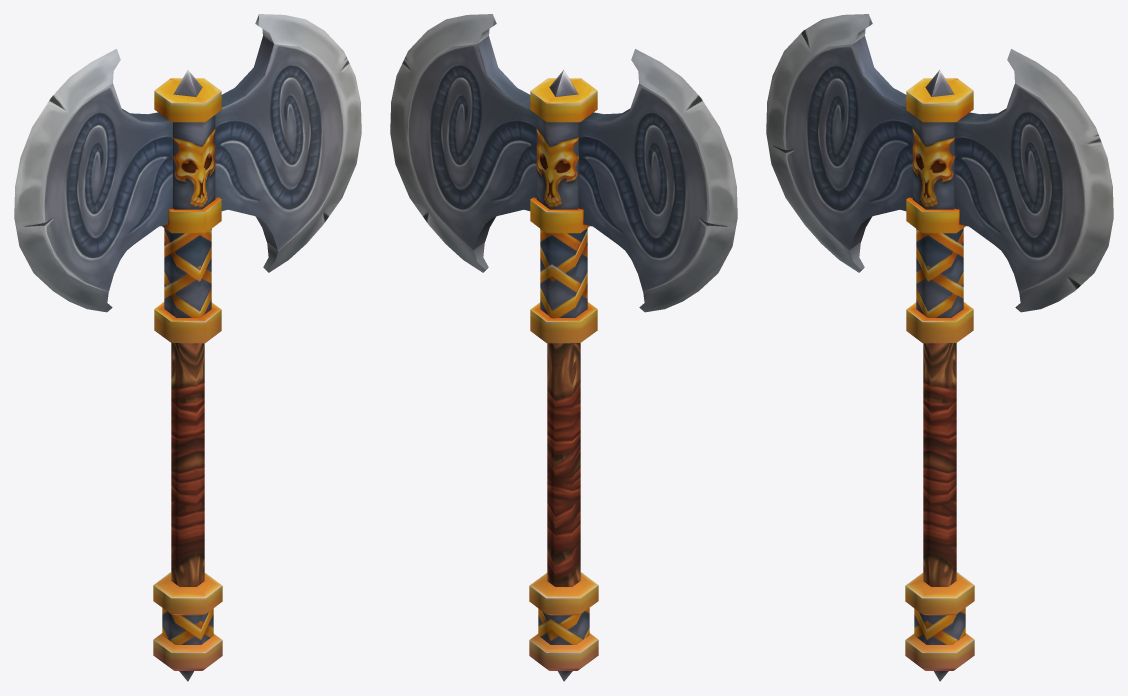
File: axe.fbx
3 renders of one model, left to right at view 1: azimuth 30°, elevation 25°; view 2: azimuth 150°, elevation 25°; view 3: azimuth 330°, elevation 25°, orthographic.
Visible parts, largest first — view 1: axe; view 2: axe; view 3: axe.
Boxes of the visible parts, x1=… form: axe: x1=14, y1=14, x2=361, y2=681; axe: x1=390, y1=14, x2=737, y2=681; axe: x1=766, y1=14, x2=1113, y2=681.
Bounding box in the file's own units: 0.752 × 1.35 × 0.1331.
